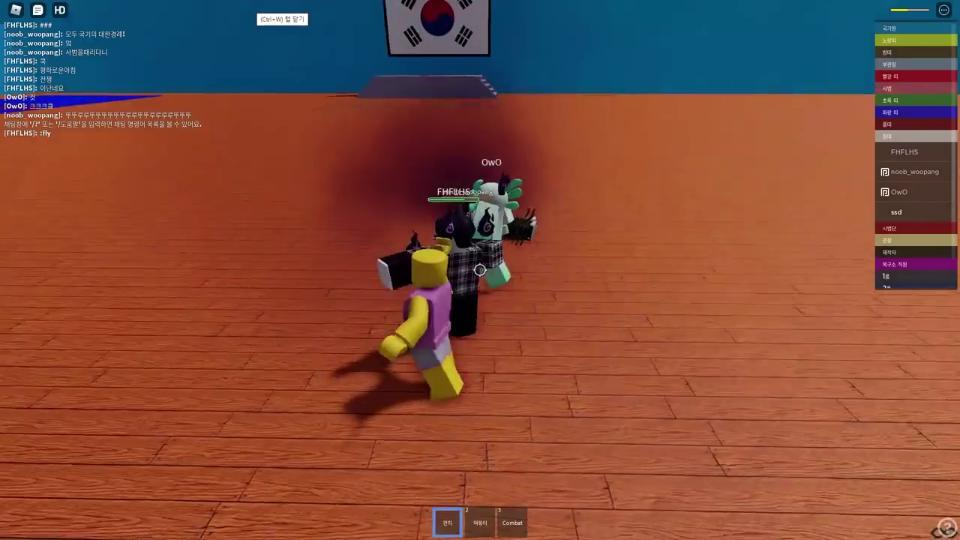Character: (380, 250, 464, 401), (435, 209, 503, 336), (470, 175, 536, 287)
